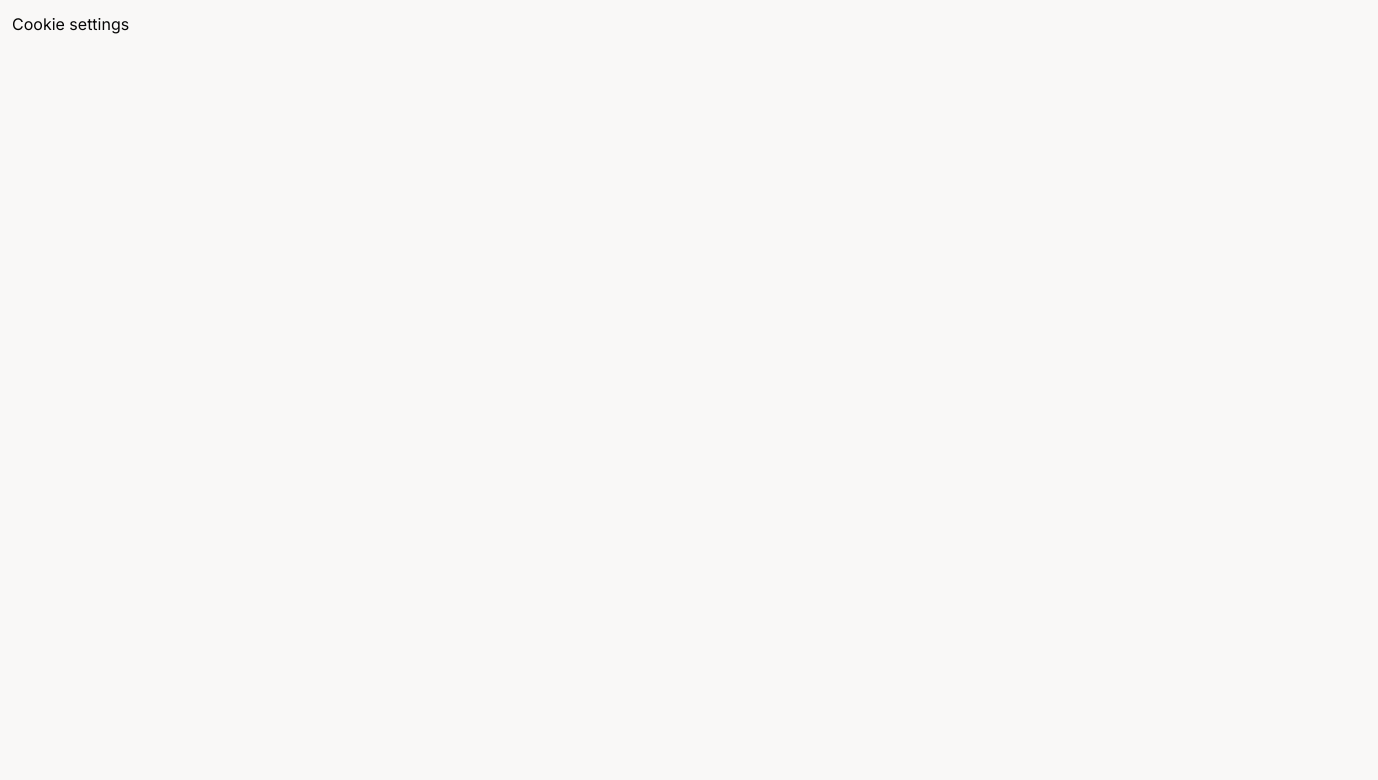
Test case: CookieSettingsButton › opens the bar, after telling its own menu to close
Click the button "Cookie settings": (71, 24) x1=12 y1=12 x2=129 y2=36
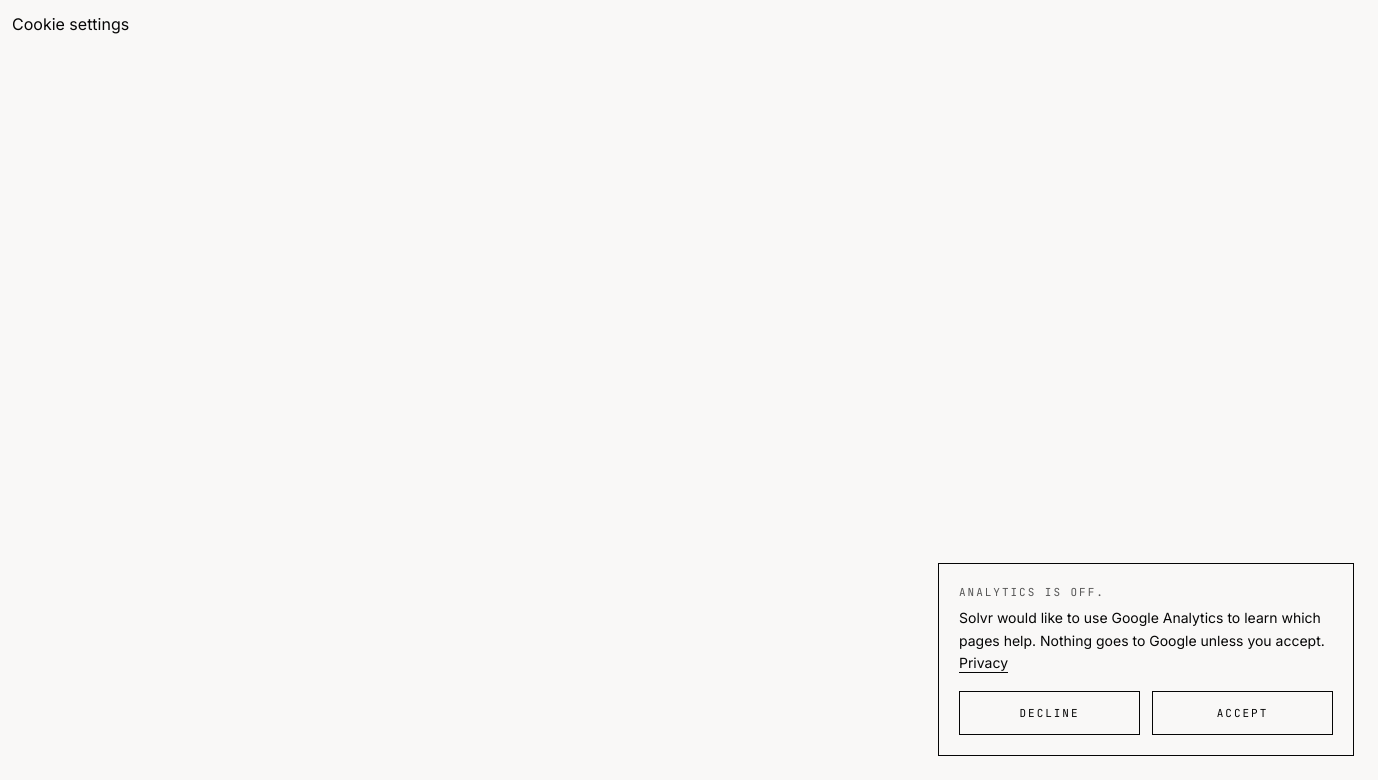
Check: the element named "analytics consent" is shown, box x1=938 y1=563 x2=1354 y2=756
